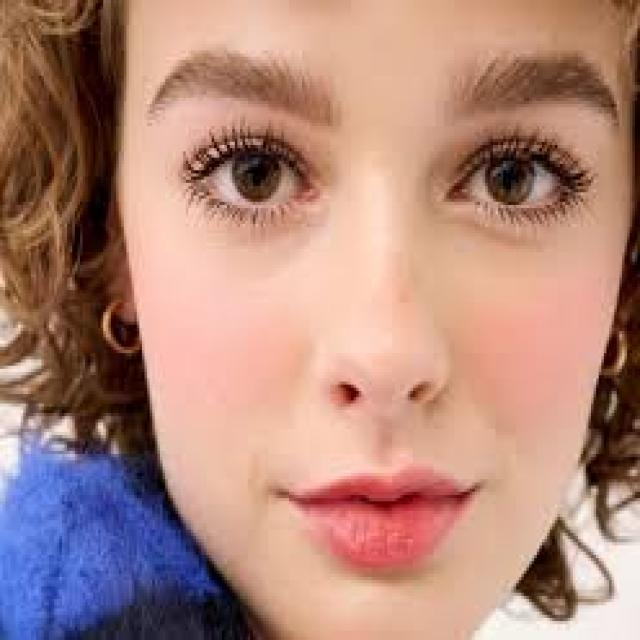no_dark_circle: (172, 206, 321, 262), (454, 221, 591, 255)
